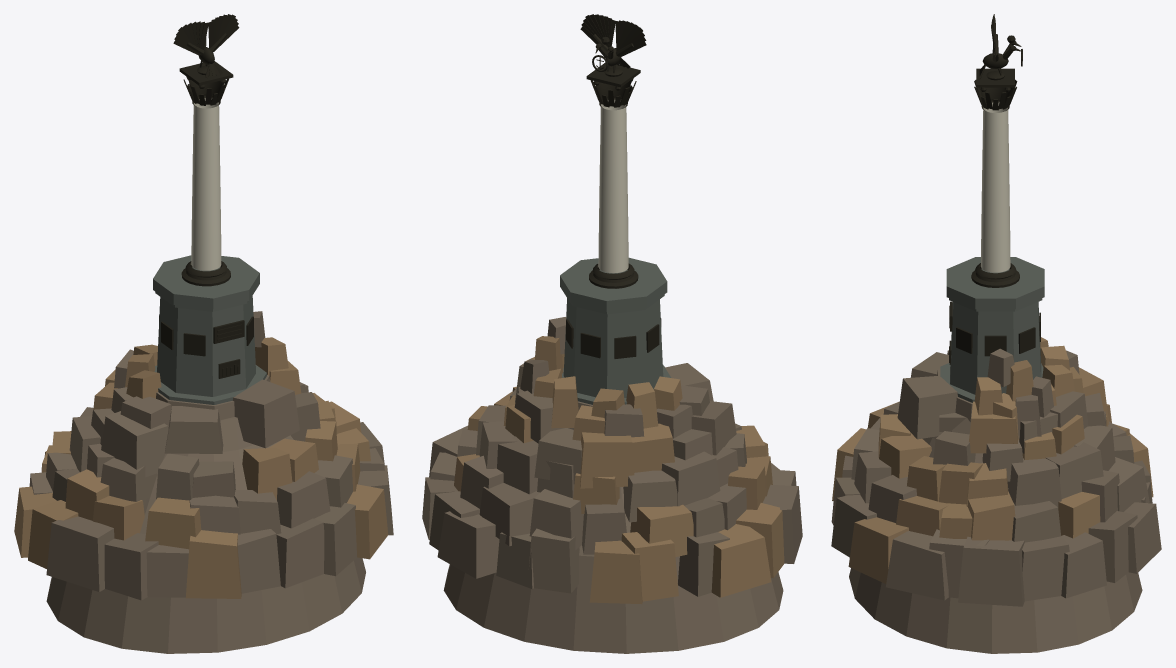
File: sunken_ships.glb
3 views of the same model, side by side, from view 1: azimuth 30°, elevation 25°; view 2: azimuth 150°, elevation 25°; view 3: azimuth 270°, elevation 25° (orthographic). The views are drawn at different scales.
Parts seen in each view (by area): view 1: sunken_ships_stone, sunken_ships_wall, sunken_ships_trim, sunken_ships_wall2_s, sunken_ships_wall3_s, sunken_ships_metal_s; view 2: sunken_ships_stone, sunken_ships_wall, sunken_ships_trim, sunken_ships_wall2_s, sunken_ships_wall3_s, sunken_ships_metal_s; view 3: sunken_ships_stone, sunken_ships_wall, sunken_ships_trim, sunken_ships_wall2_s, sunken_ships_wall3_s, sunken_ships_metal_s.
Boxes of the visible parts, x1,y1,x2,y2 form: sunken_ships_stone: [29, 311, 393, 653]; sunken_ships_wall: [14, 337, 388, 598]; sunken_ships_trim: [153, 255, 266, 404]; sunken_ships_wall2_s: [191, 98, 221, 270]; sunken_ships_wall3_s: [173, 14, 239, 286]; sunken_ships_metal_s: [159, 315, 253, 378]; sunken_ships_stone: [422, 317, 802, 653]; sunken_ships_wall: [454, 336, 784, 603]; sunken_ships_trim: [560, 257, 671, 404]; sunken_ships_wall2_s: [598, 99, 628, 273]; sunken_ships_wall3_s: [580, 14, 646, 288]; sunken_ships_metal_s: [566, 57, 661, 358]; sunken_ships_stone: [831, 348, 1161, 653]; sunken_ships_wall: [832, 337, 1153, 583]; sunken_ships_trim: [940, 257, 1044, 402]; sunken_ships_wall2_s: [981, 102, 1010, 272]; sunken_ships_wall3_s: [971, 14, 1022, 287]; sunken_ships_metal_s: [949, 301, 1040, 364].
Bounding box in the file's own units: 12.48 × 19.77 × 10.57.
